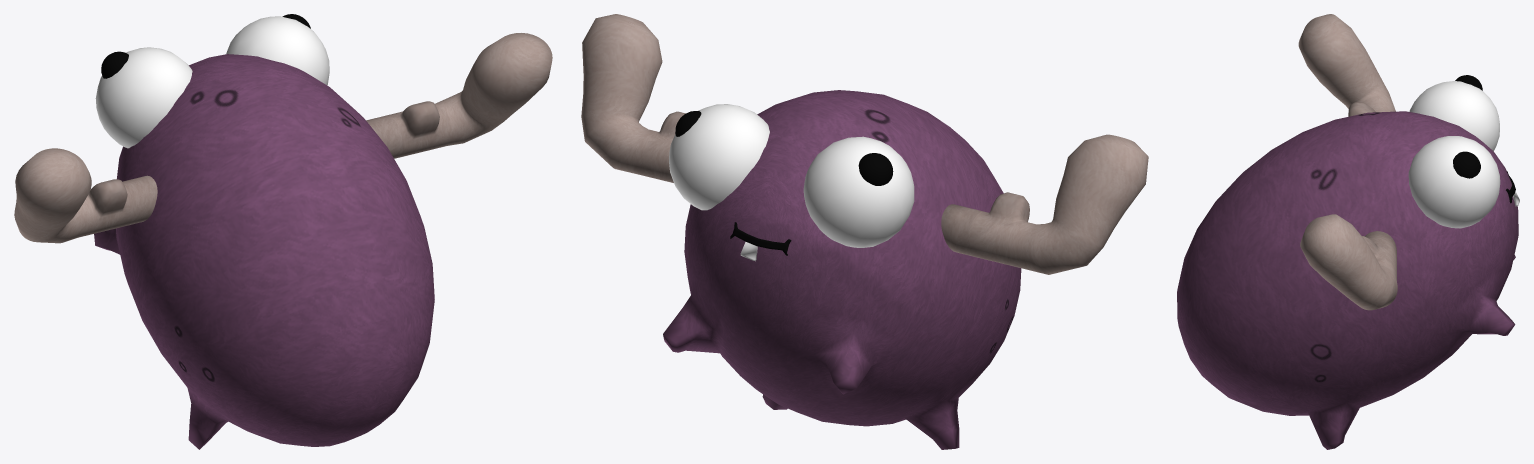
File: plushminimoose_static.fbx
3 renders of one model, left to right at view 1: azimuth 30°, elevation 25°; view 2: azimuth 150°, elevation 25°; view 3: azimuth 270°, elevation 25°, orthographic. The views are drawn at different scales.
Parts seen in each view (by area): view 1: Cube; view 2: Cube; view 3: Cube.
Part boxes in pixels (x1,y1,x2,y2): Cube: [14, 14, 552, 449]; Cube: [581, 14, 1148, 449]; Cube: [1177, 14, 1519, 449].
Bounding box in the file's own units: 0.5175 × 0.3178 × 0.3283.
